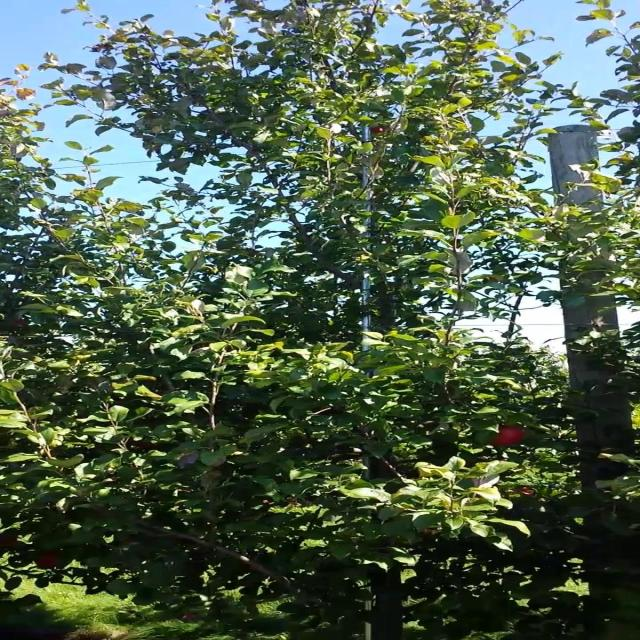apple: (490, 424, 526, 448), (35, 552, 62, 570), (6, 536, 21, 549), (369, 128, 388, 135)
